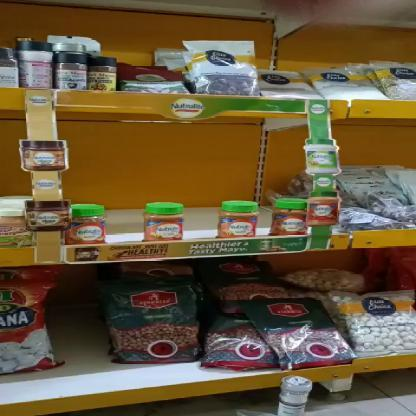Complan Pista Badam: (66, 208, 107, 245), (144, 204, 183, 242), (220, 201, 258, 237), (272, 199, 308, 235)
